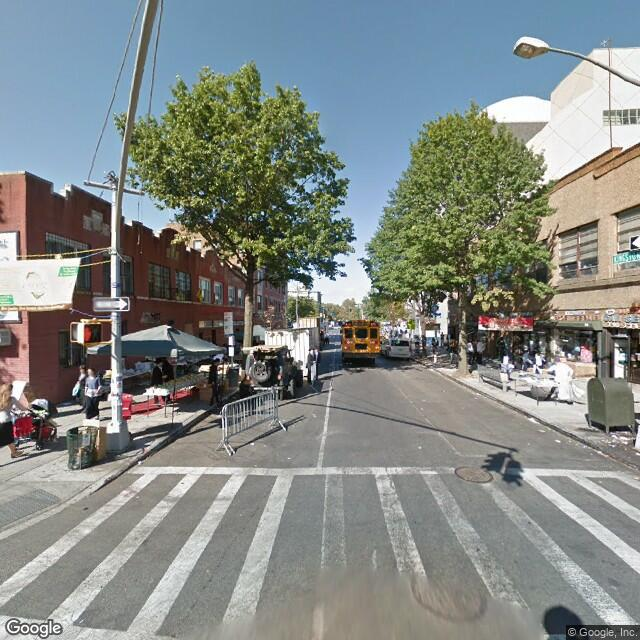litter: (611, 434, 624, 445), (525, 415, 535, 424), (311, 410, 321, 417), (247, 440, 256, 447), (537, 427, 546, 434), (284, 454, 292, 461), (134, 460, 145, 465), (416, 444, 424, 450), (554, 438, 563, 443), (633, 451, 640, 457)
